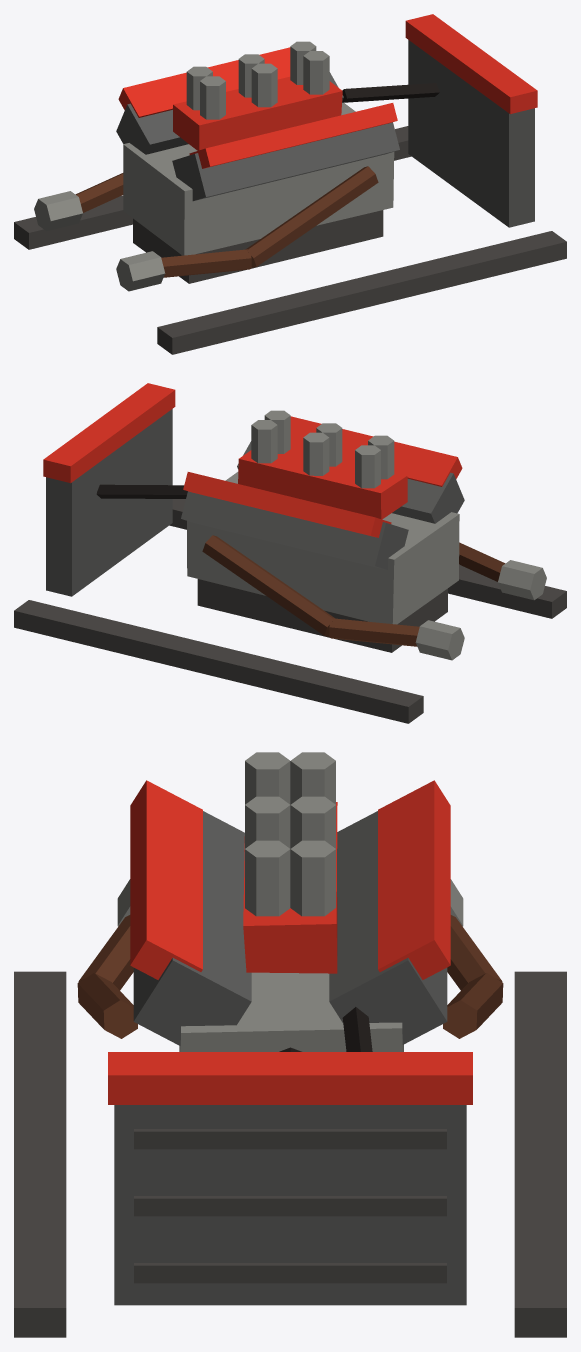
Rendered from eng_racing_v6.glb.
3 views of the same model, one above another, from view 1: azimuth 30°, elevation 25°; view 2: azimuth 150°, elevation 25°; view 3: azimuth 270°, elevation 25° (orthographic). The views are drawn at different scales.
Parts seen in each view (by area): view 1: eng_racing_v6; view 2: eng_racing_v6; view 3: eng_racing_v6.
Boxes of the visible parts, box(x1,y1,x2,y2) form: eng_racing_v6: box(14, 14, 566, 354); eng_racing_v6: box(14, 383, 566, 723); eng_racing_v6: box(14, 752, 566, 1337).
Bounding box in the file's own units: 1.25 × 0.57 × 0.848.
